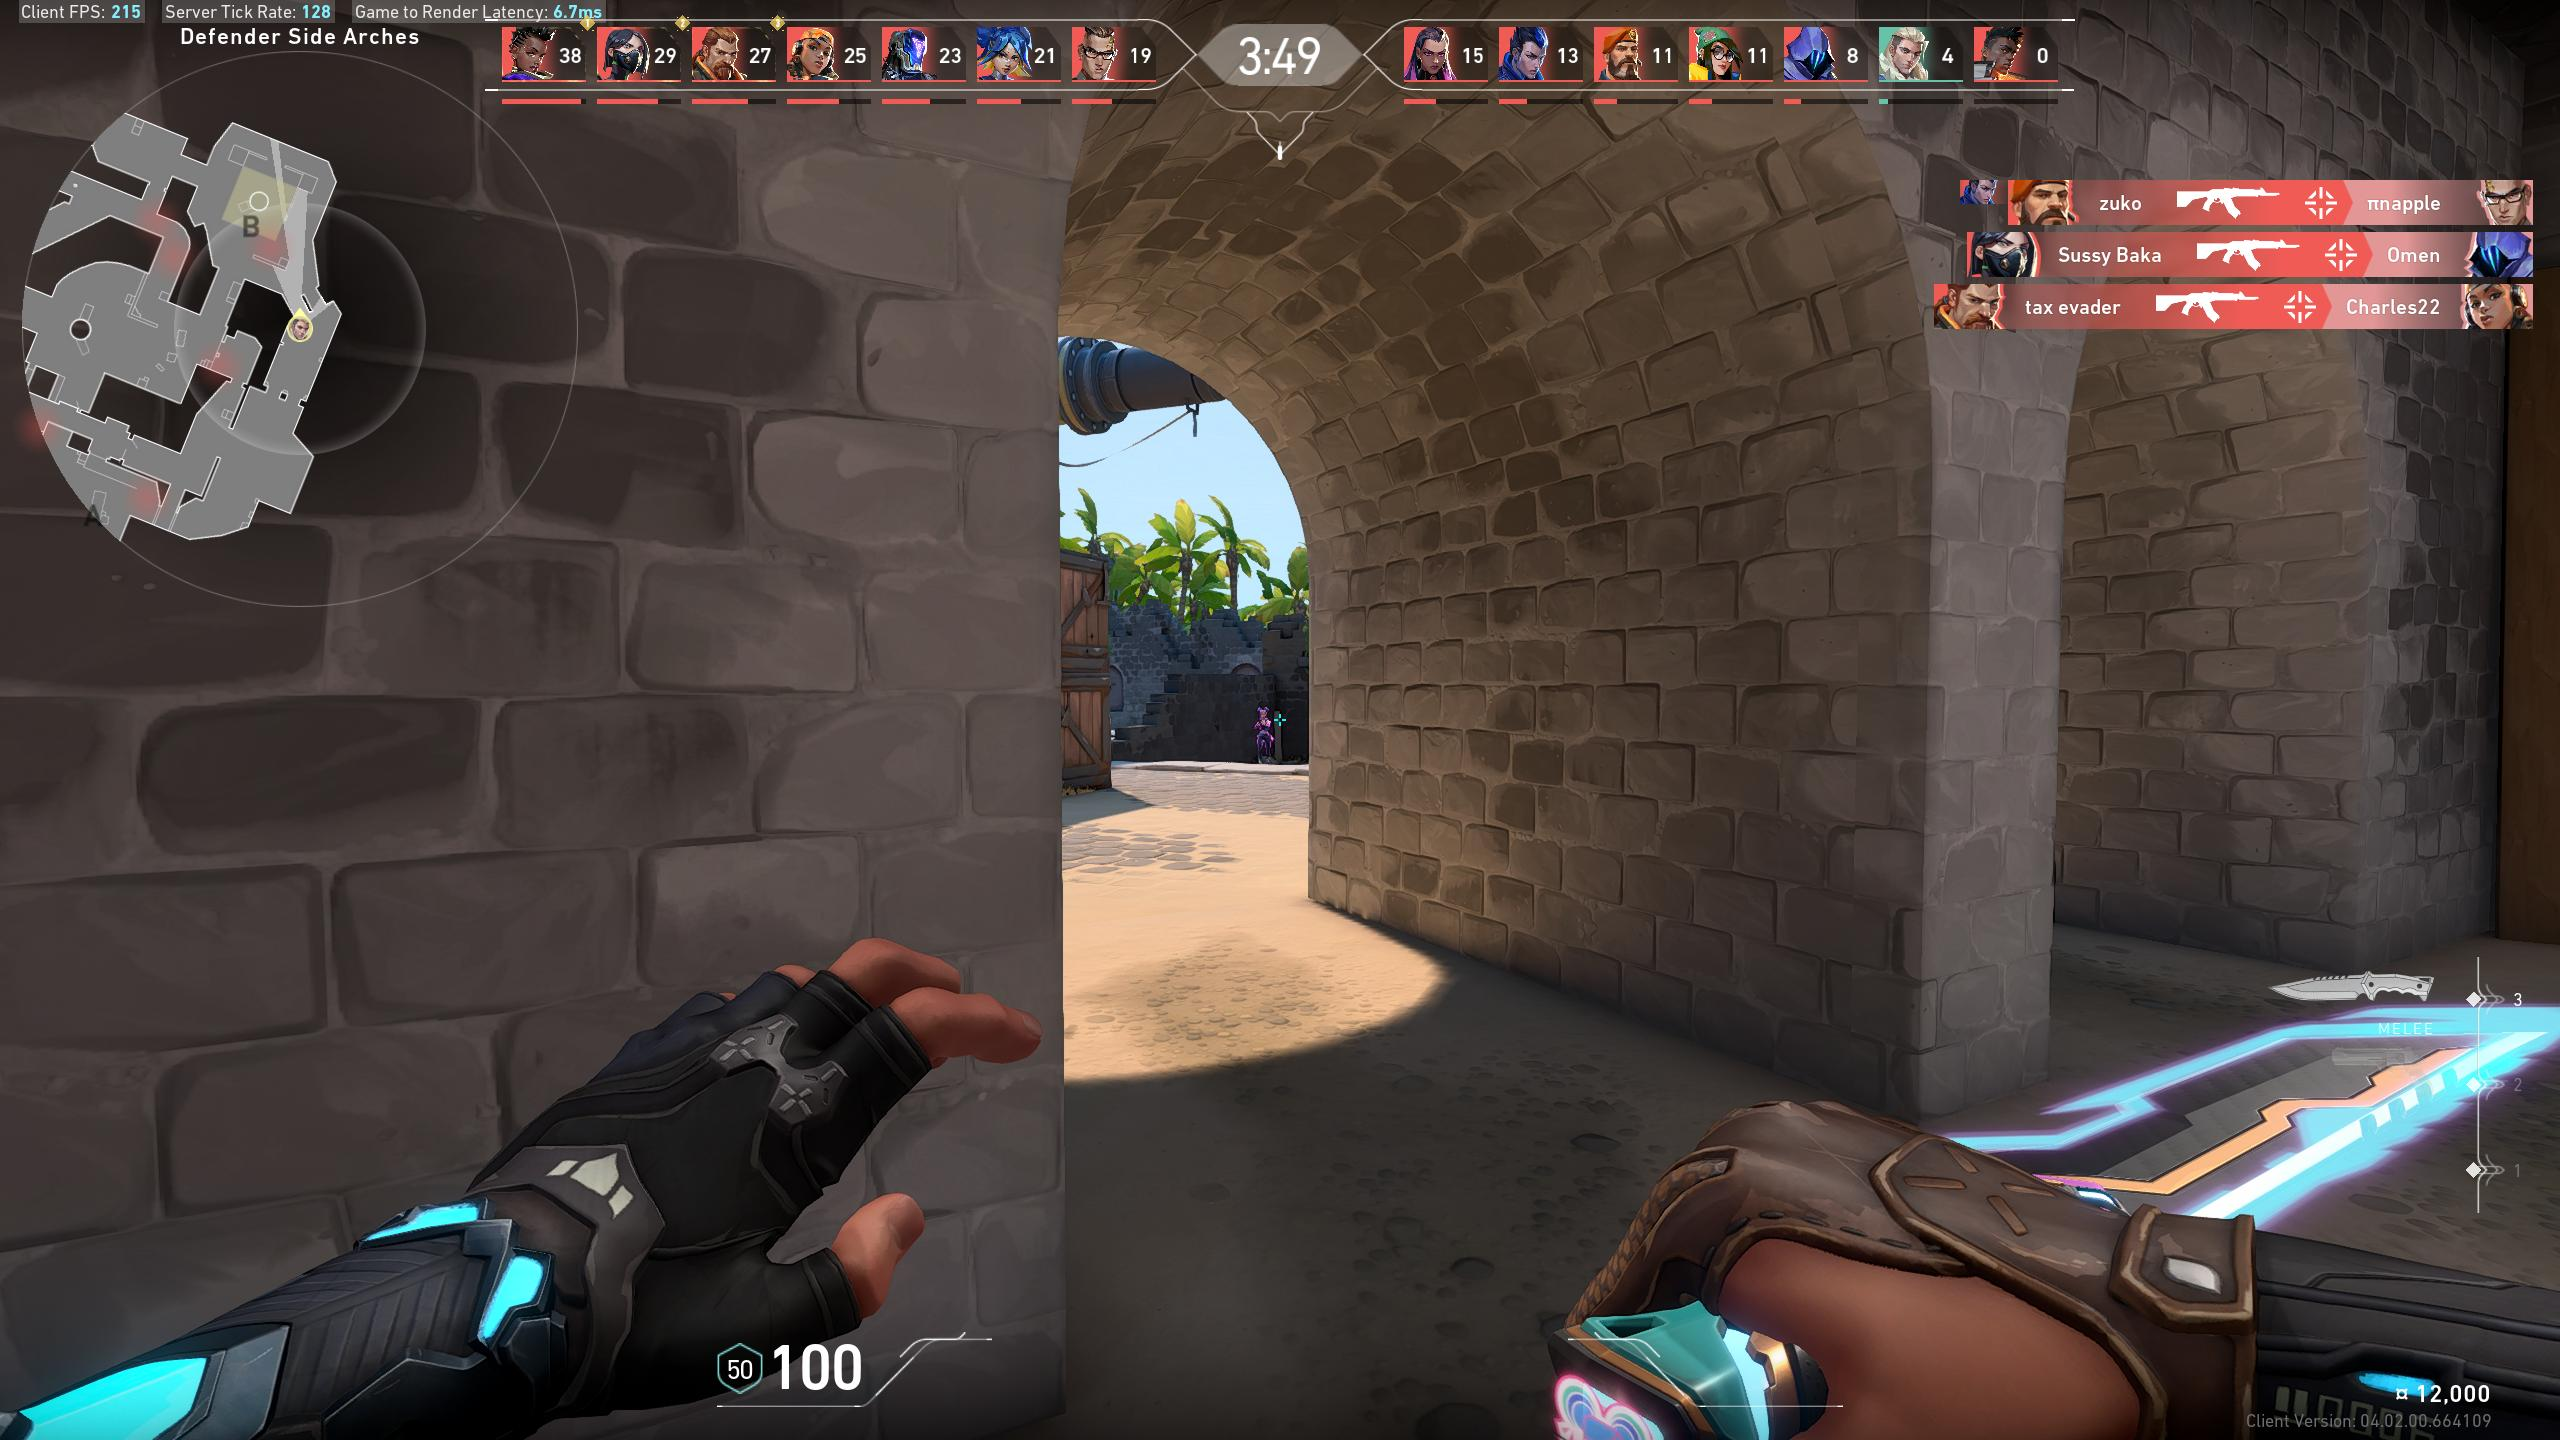enemyBody: (1259, 719, 1269, 733)
enemyHead: (1261, 710, 1266, 717)
